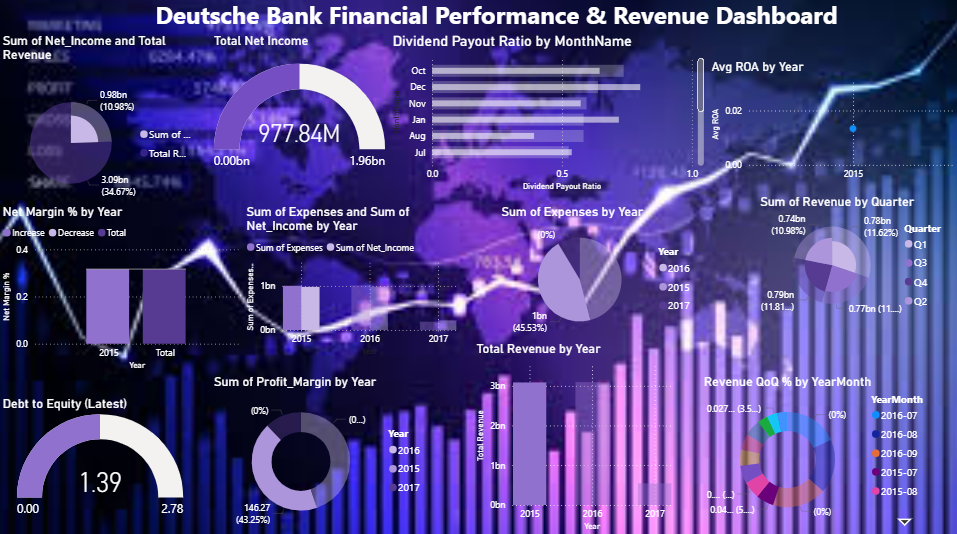

The dashboard page shown, as its layout file describes it:
{"tool":"powerbi","page":{"name":"Page 1","canvas":[1280,720],"ordinal":0},"visuals":[{"type":"donutChart","fields":{"Y":["DateTable.Revenue QoQ %"],"Category":["DateTable.YearMonth"]},"box":[935,505,320,210],"z":0},{"type":"pieChart","fields":{"Category":["deutsche_bank_financial_performance.Year"],"Y":["Sum(deutsche_bank_financial_performance.Expenses)"]},"box":[665,278.3,270,183.3],"z":1000},{"type":"pieChart","fields":{"Y":["Sum(deutsche_bank_financial_performance.Net_Income)","DateTable.Total Revenue"]},"box":[0,50,270,256.7],"z":2000},{"type":"pieChart","fields":{"Y":["Sum(deutsche_bank_financial_performance.Revenue)"],"Category":["DateTable.Quarter"]},"box":[1010,265,270,171.7],"z":3000},{"type":"waterfallChart","fields":{"Category":["deutsche_bank_financial_performance.Year"],"Y":["DateTable.Net Margin %"]},"box":[0,278.3,325,226.7],"z":4000},{"type":"gauge","fields":{"Y":["DateTable.Debt to Equity (Latest)"]},"box":[0,535,270,171.7],"z":5000},{"type":"barChart","fields":{"Y":["DateTable.Dividend Payout Ratio"],"Category":["DateTable.MonthName"]},"box":[520,50,425,216.7],"z":6000},{"type":"clusteredColumnChart","fields":{"Category":["deutsche_bank_financial_performance.Year"],"Y":["DateTable.Total Revenue"]},"box":[631.7,461.7,270,258.3],"z":7000},{"type":"lineChart","fields":{"Category":["deutsche_bank_financial_performance.Year"],"Y":["DateTable.Avg ROA"]},"box":[945,85,335,171.7],"z":8000},{"type":"gauge","fields":{"Y":["DateTable.Total Net Income"]},"box":[281.7,50,238.3,210],"z":9000},{"type":"donutChart","fields":{"Y":["Sum(deutsche_bank_financial_performance.Profit_Margin)"],"Category":["deutsche_bank_financial_performance.Year"]},"box":[281.7,505,293.3,215],"z":10000},{"type":"clusteredColumnChart","fields":{"Category":["deutsche_bank_financial_performance.Year"],"Y":["Sum(deutsche_bank_financial_performance.Expenses)","Sum(deutsche_bank_financial_performance.Net_Income)"]},"box":[325,278.3,290,208.3],"z":11000},{"type":"textbox","box":[163.3,0,1043.3,70],"z":11001}]}

Visuals, with their boxes in screenshot pixels (x1, y1, x2, y2), scaled from the page's 1280x720 canvas onto the 957x534 screenshot:
donutChart - DateTable.Revenue QoQ % x DateTable.YearMonth: detection(699, 375, 938, 530)
pieChart - deutsche_bank_financial_performance.Year x Sum(deutsche_bank_financial_performance.Expenses): detection(497, 206, 699, 342)
pieChart - Sum(deutsche_bank_financial_performance.Net_Income) x DateTable.Total Revenue: detection(0, 37, 202, 227)
pieChart - Sum(deutsche_bank_financial_performance.Revenue) x DateTable.Quarter: detection(755, 197, 956, 324)
waterfallChart - deutsche_bank_financial_performance.Year x DateTable.Net Margin %: detection(0, 206, 243, 375)
gauge - DateTable.Debt to Equity (Latest): detection(0, 397, 202, 524)
barChart - DateTable.Dividend Payout Ratio x DateTable.MonthName: detection(389, 37, 707, 198)
clusteredColumnChart - deutsche_bank_financial_performance.Year x DateTable.Total Revenue: detection(472, 342, 674, 533)
lineChart - deutsche_bank_financial_performance.Year x DateTable.Avg ROA: detection(707, 63, 956, 190)
gauge - DateTable.Total Net Income: detection(211, 37, 389, 193)
donutChart - Sum(deutsche_bank_financial_performance.Profit_Margin) x deutsche_bank_financial_performance.Year: detection(211, 375, 430, 533)
clusteredColumnChart - deutsche_bank_financial_performance.Year x Sum(deutsche_bank_financial_performance.Expenses): detection(243, 206, 460, 361)
textbox: detection(122, 0, 902, 52)
